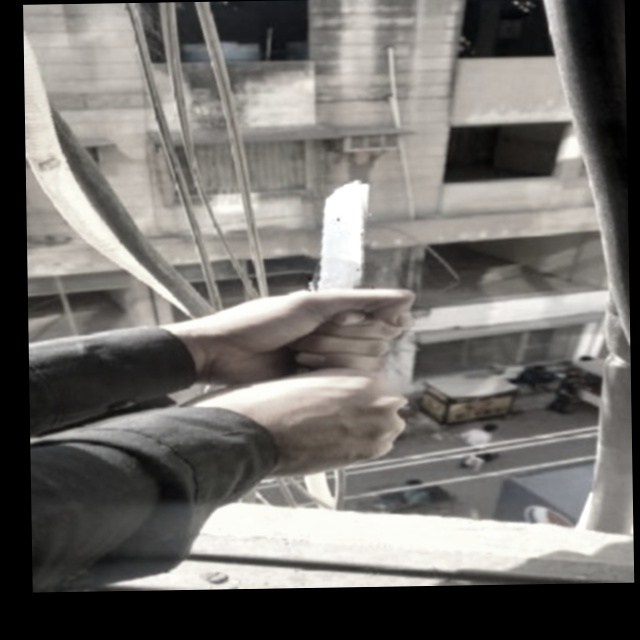Sharp-Object: (304, 183, 374, 291)
